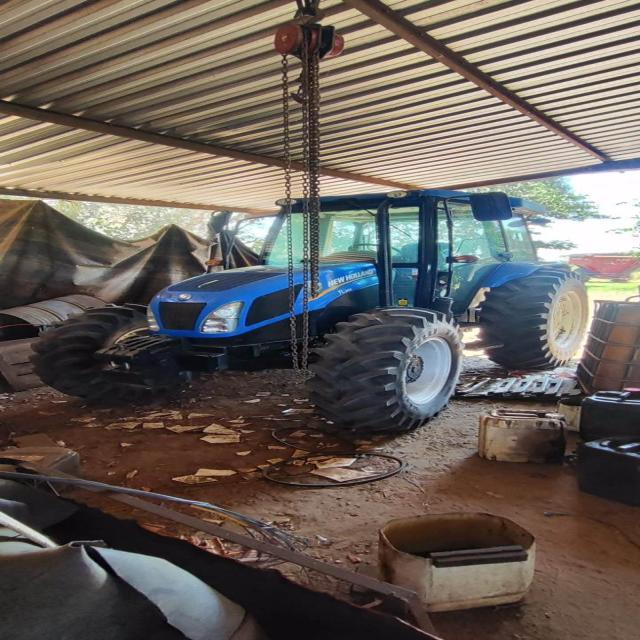Tratores - v5 YOLO V8L 2024-11-13: (30, 183, 594, 441)
